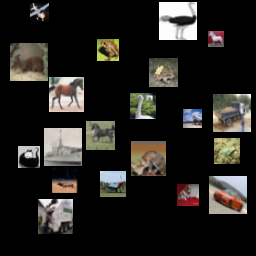airplane: (100, 171, 126, 197), (30, 3, 49, 22), (183, 109, 202, 128)
automobile: (209, 176, 247, 214)
bird: (159, 2, 197, 40), (130, 93, 156, 119)
cat: (131, 141, 166, 176), (18, 146, 40, 168)
deer: (10, 43, 48, 81), (52, 167, 78, 193)
dog: (177, 184, 199, 206)
frog: (149, 58, 178, 87), (214, 138, 240, 164), (97, 39, 119, 61)
ship: (44, 128, 82, 166)
